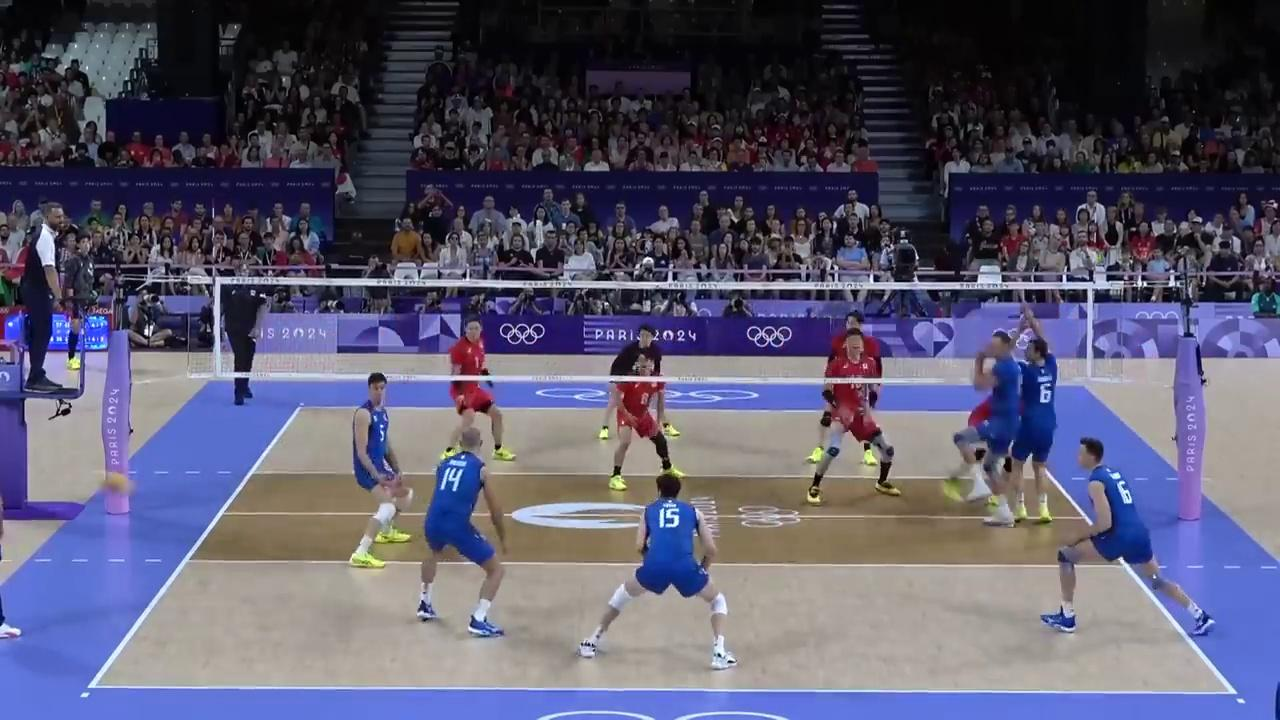ball: (99, 471, 135, 497)
